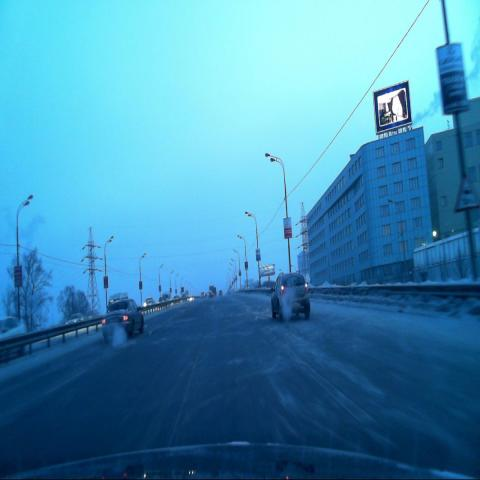1_15: (454, 169, 480, 213)
